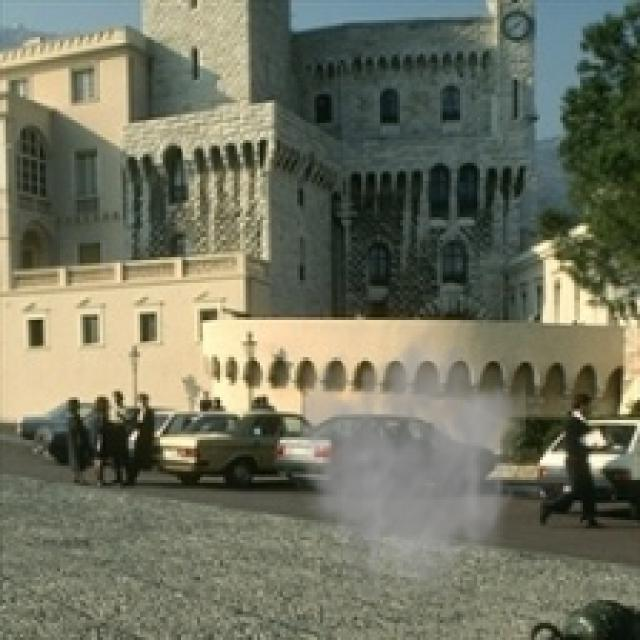smoke: (280, 326, 526, 608)
